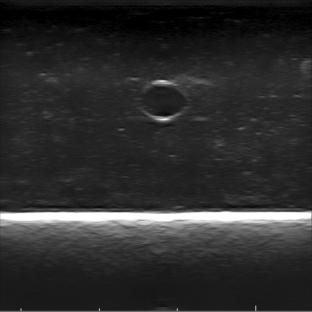vessel: (139, 79, 189, 122)
